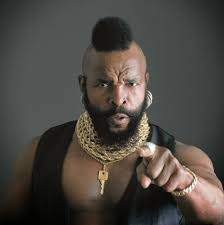hand: (137, 140, 186, 194)
